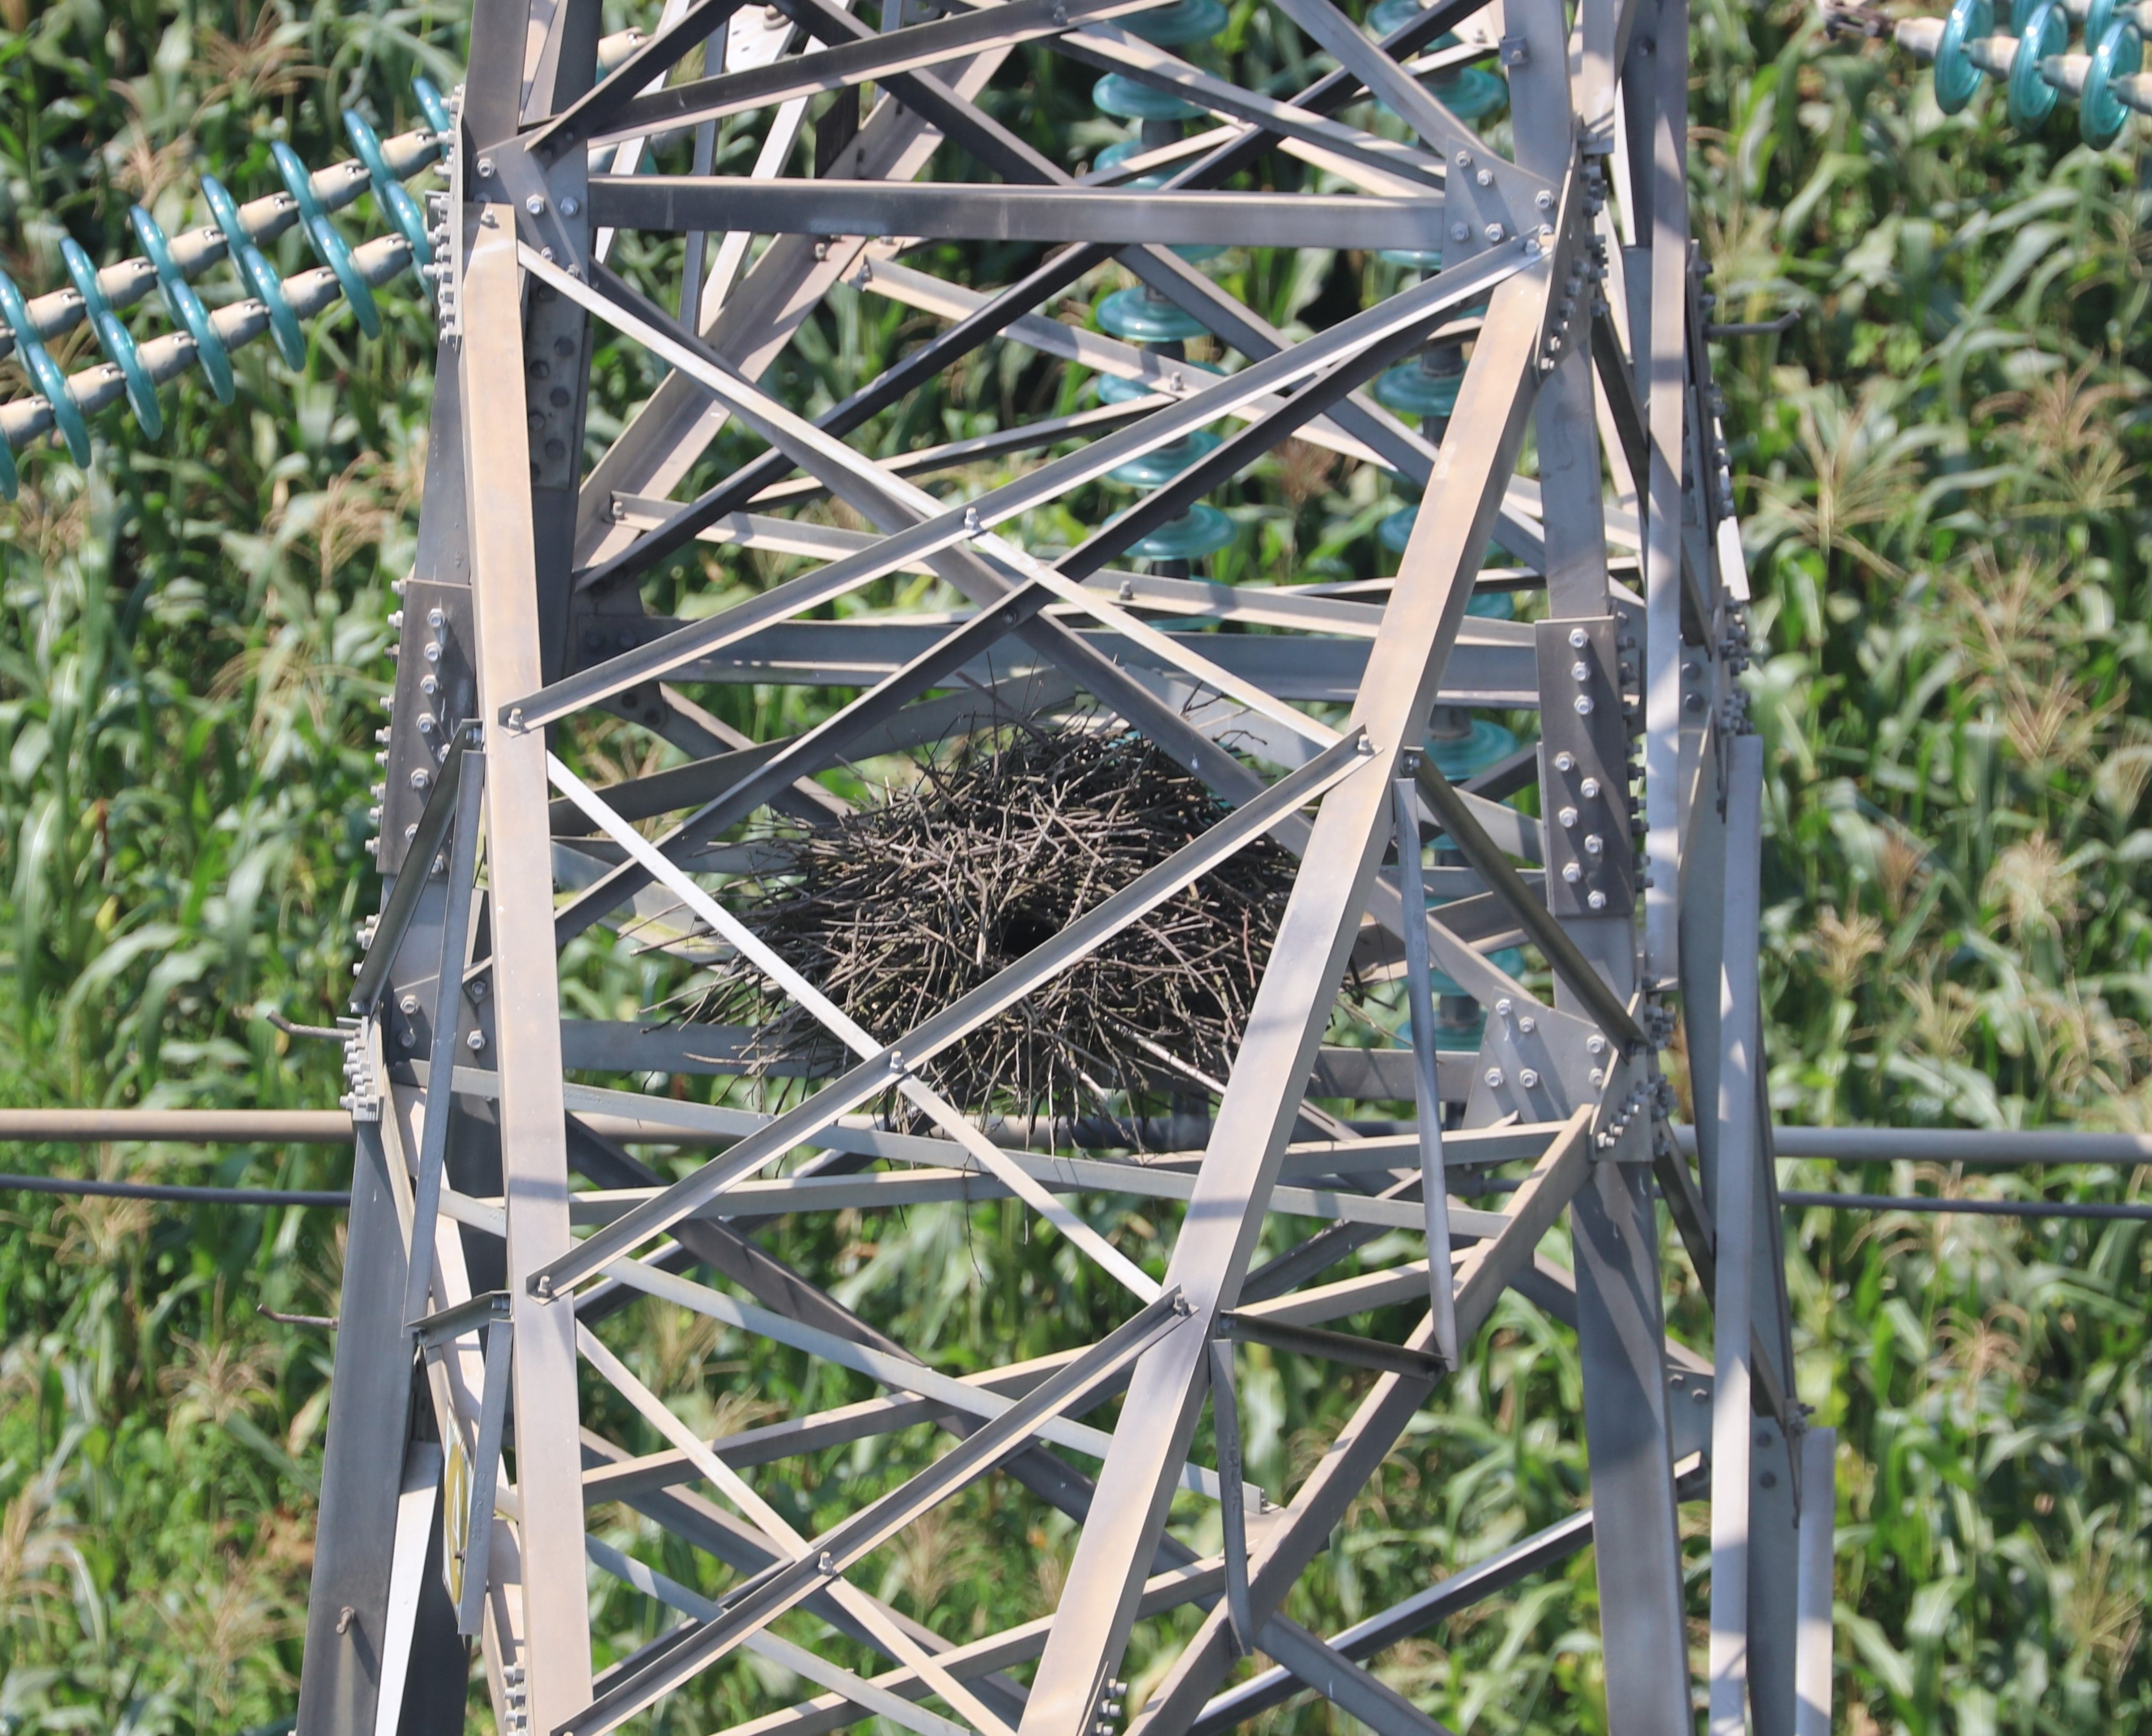niaowo: (744, 693, 1367, 1150)
